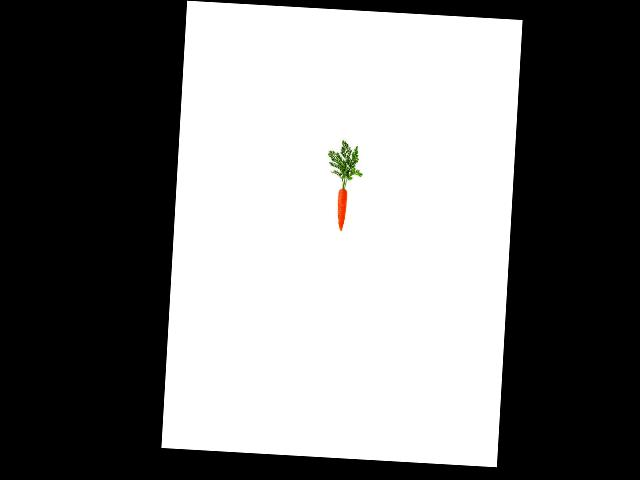carrot: (335, 187, 350, 233)
